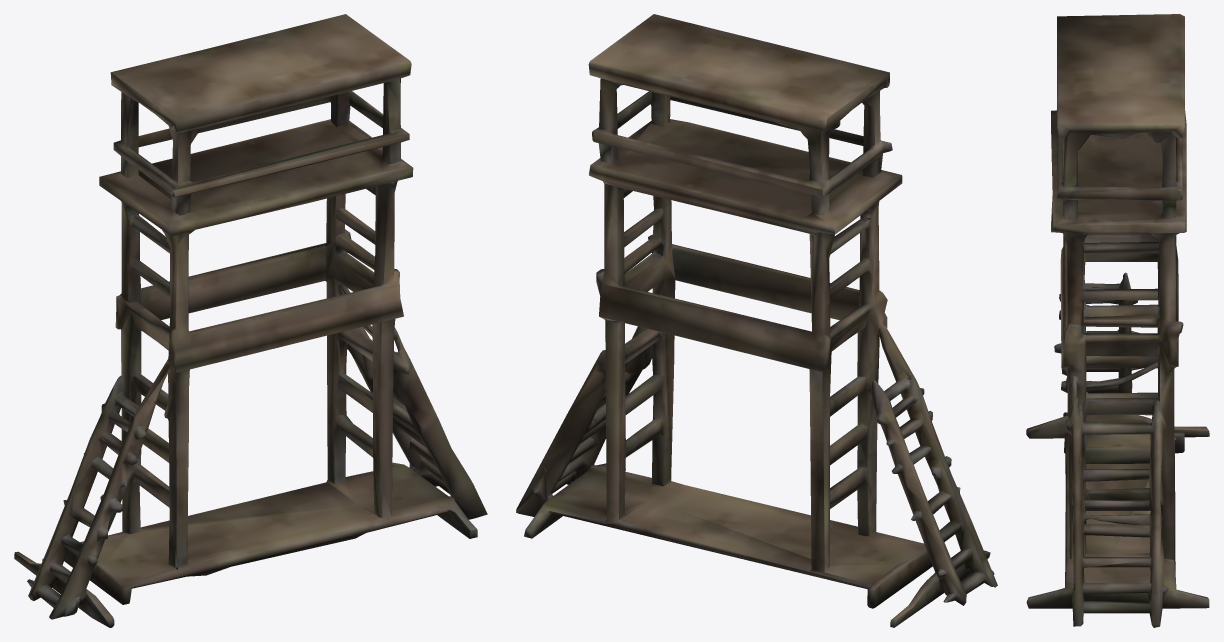
File: worn-wood-scaffold-tower-v001.glb
The picture shows the model from 3 angles, left to right: view 1: azimuth 30°, elevation 25°; view 2: azimuth 150°, elevation 25°; view 3: azimuth 270°, elevation 25°; orthographic projection. The views are drawn at different scales.
Parts seen in each view (by area): view 1: worn-wood-scaffold-tower; view 2: worn-wood-scaffold-tower; view 3: worn-wood-scaffold-tower.
Boxes of the visible parts, left/top/right/bottom form: worn-wood-scaffold-tower: left=14, top=14, right=487, bottom=627; worn-wood-scaffold-tower: left=516, top=14, right=997, bottom=627; worn-wood-scaffold-tower: left=1026, top=14, right=1209, bottom=627.
Size of the model in its own units: 3.17 by 3.33 by 1.2.
Materials: 1 (1 with a texture image).
